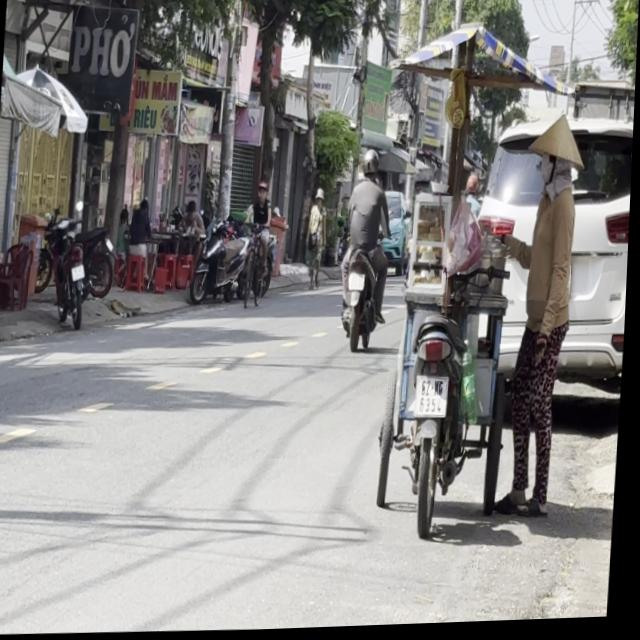helmet: (361, 149, 381, 180)
licenseplate: (335, 147, 397, 353)
nohelmet: (416, 377, 451, 419), (349, 274, 366, 293)
